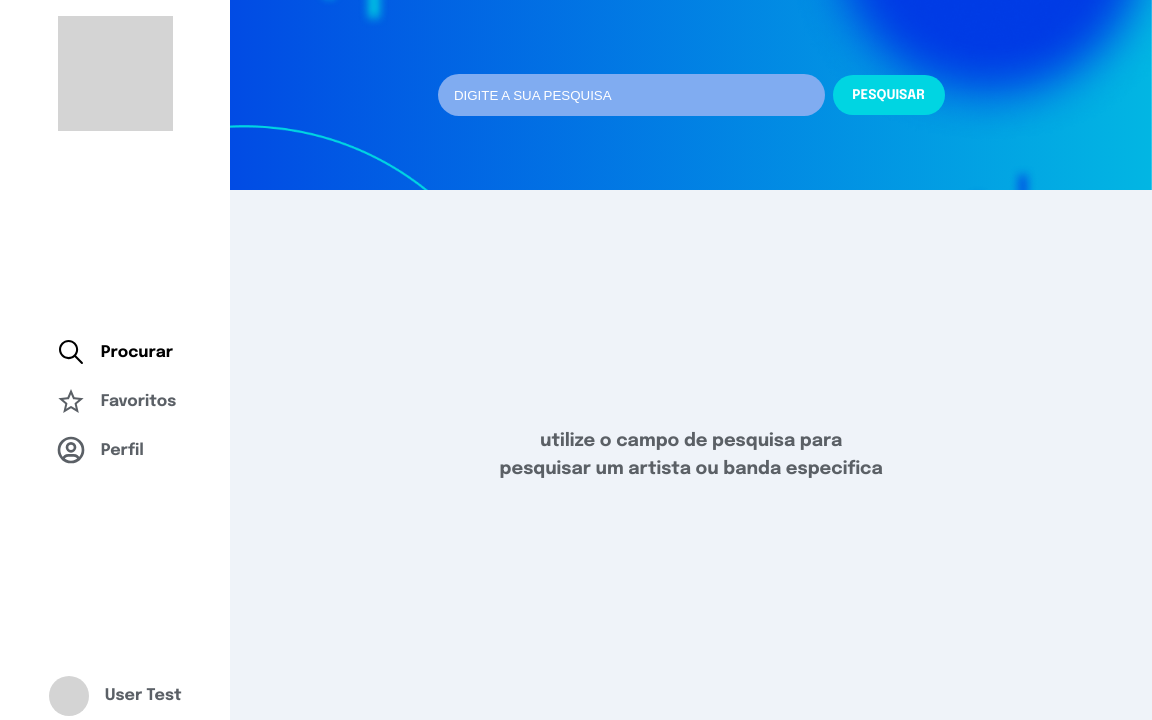
Testando a requisição para pesquisar artistas › Testando se caso a API não retorne nenhum álbum, a mensagem Nenhum álbum foi encontrado é exibida
Type "aesdsgseg" into the field with test id "search-artist-input".
click(631, 95); type("aesdsgseg")  # box [438,74,824,116]
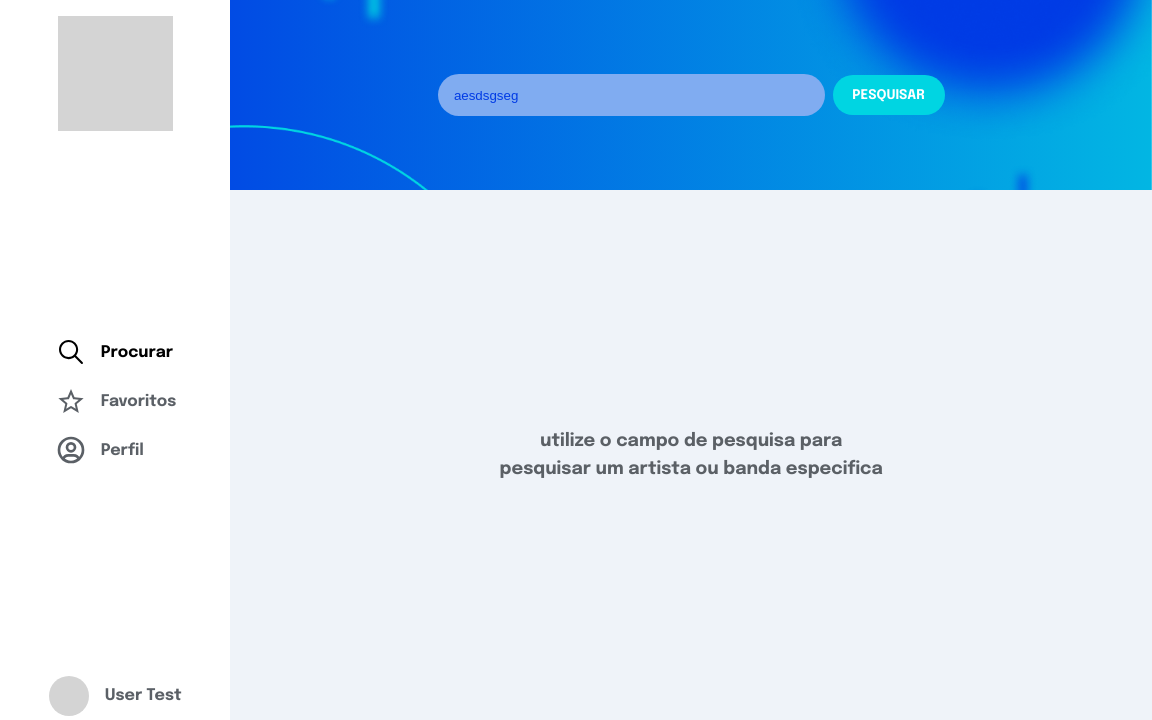
Click the button with test id "search-artist-button".
click(888, 95)  # box [832,75,944,115]
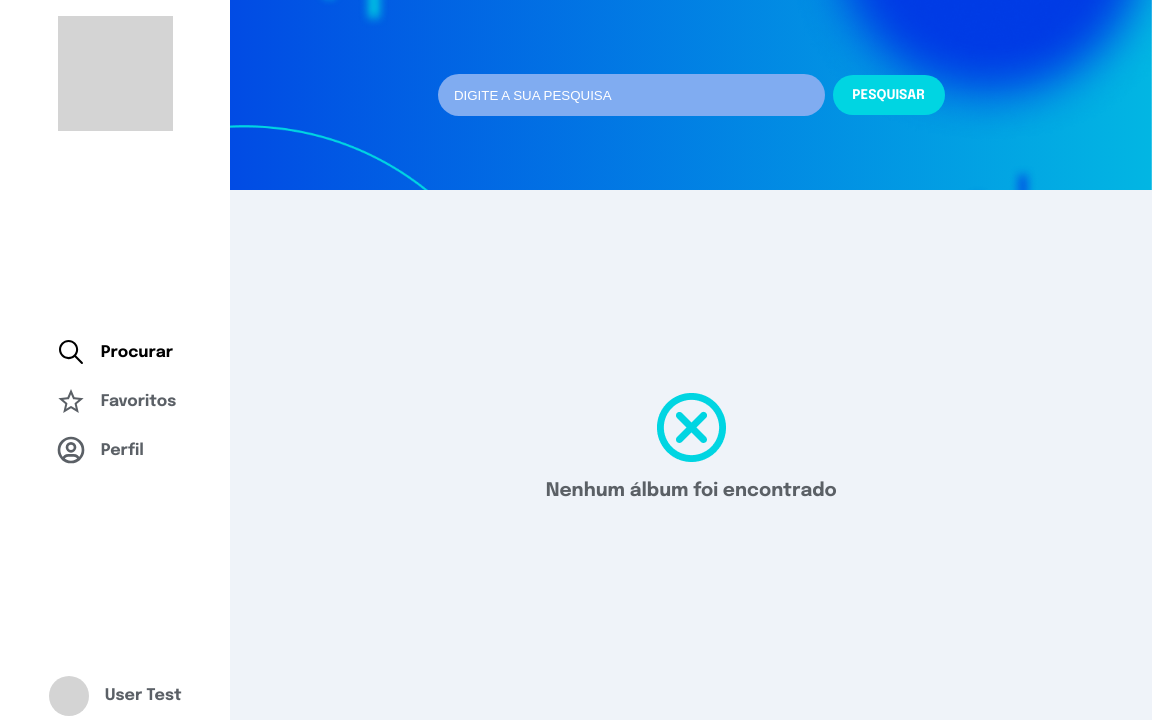
expect the heading "Nenhum álbum foi encontrado" is shown: met, box [546,480,837,500]
